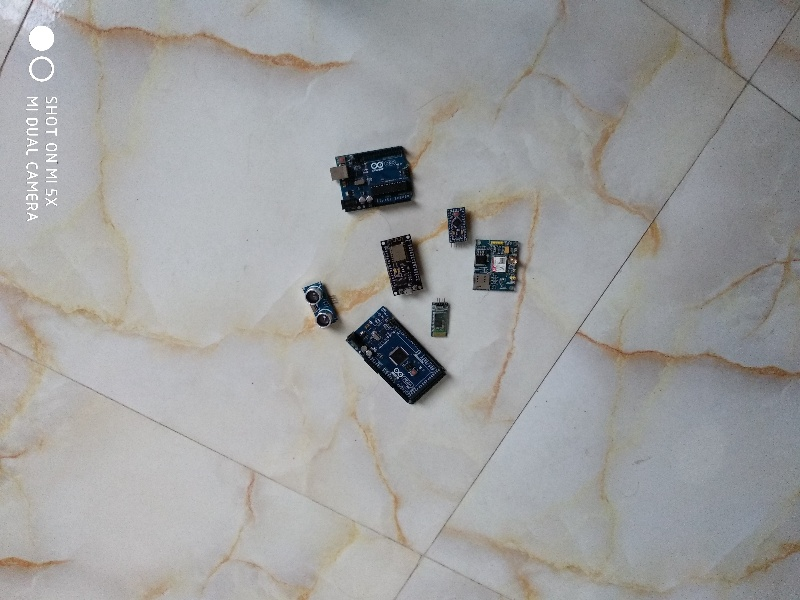Arduino Mega 2560: (342, 303, 448, 408)
Arduino Pro Mini: (444, 203, 473, 246)
Arduino UNO: (325, 142, 423, 216)
HC-05: (429, 298, 452, 341)
NodeMCU: (379, 229, 427, 297)
SIM800: (469, 237, 524, 297)
Sonar Sensor: (297, 279, 342, 333)
